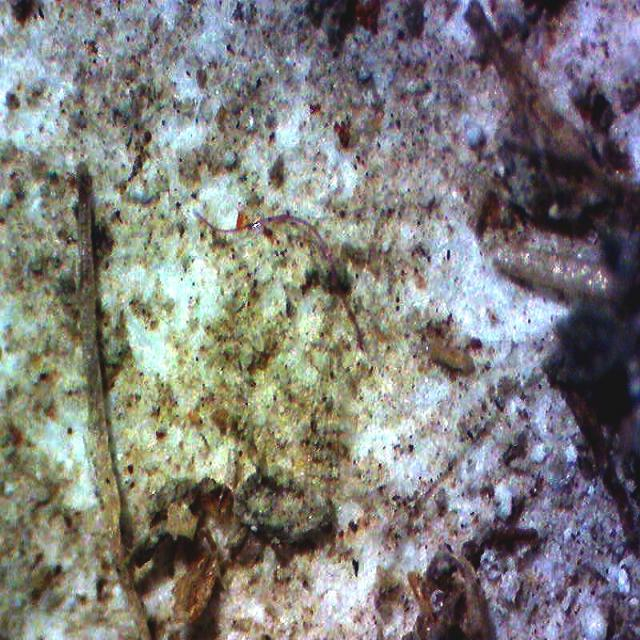microplastic: (197, 212, 364, 351)
